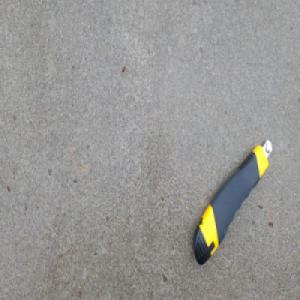Cutter: (192, 135, 273, 265)
